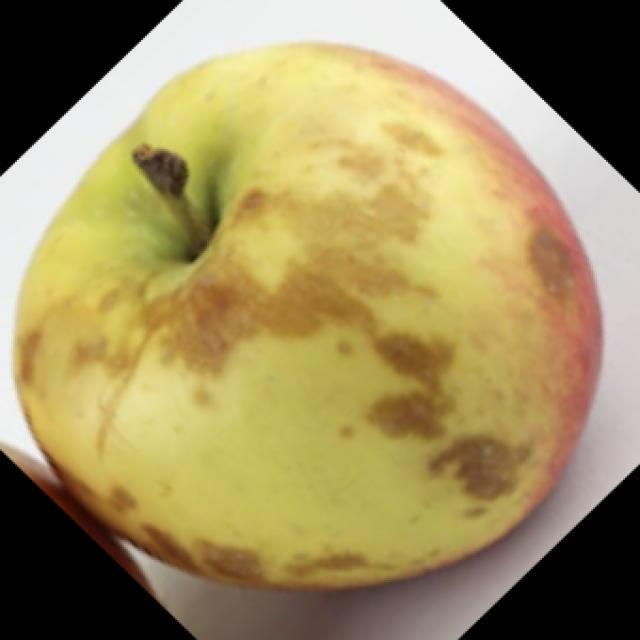Rotten: (42, 47, 595, 590)
